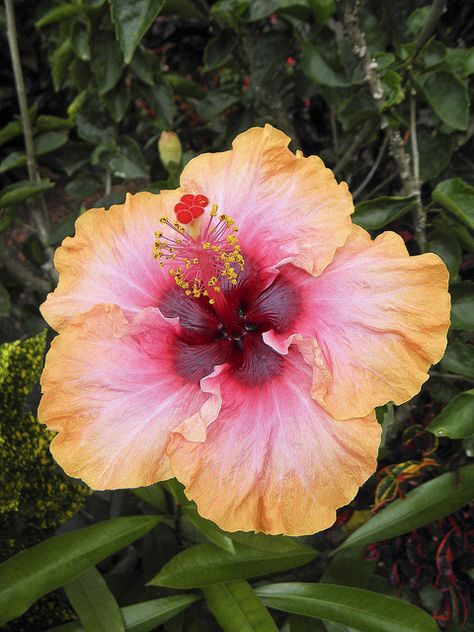Hibiscus: (26, 115, 450, 527)
